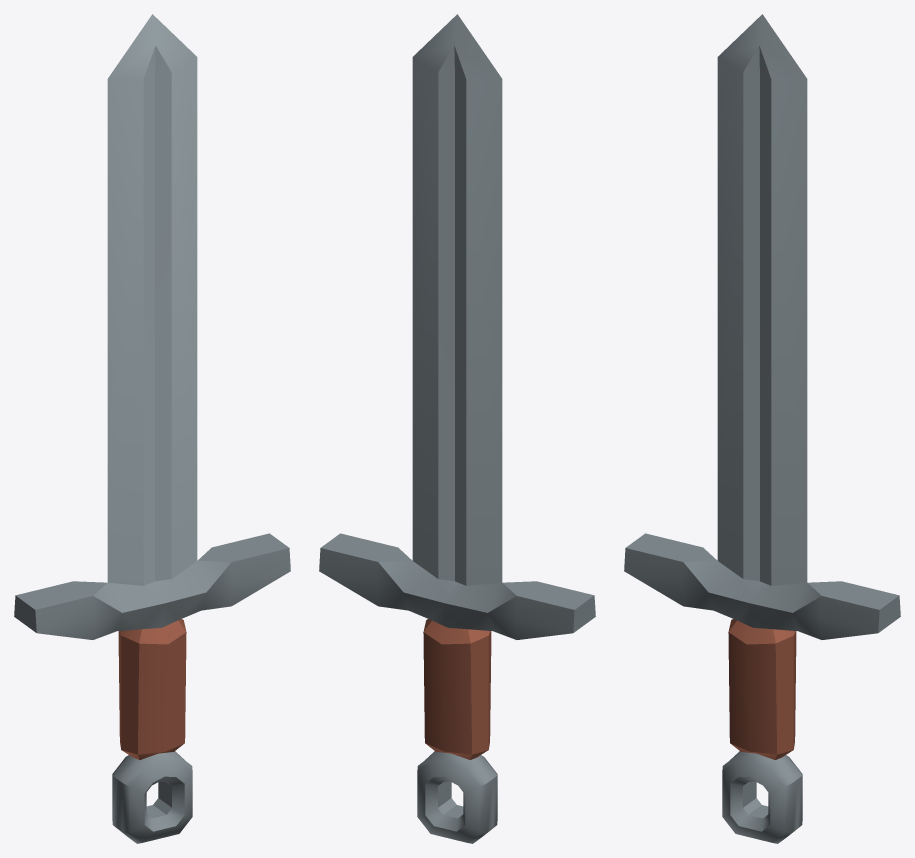
File: mercenary_sword.gltf.glb
3 views of the same model, side by side, from view 1: azimuth 30°, elevation 25°; view 2: azimuth 150°, elevation 25°; view 3: azimuth 330°, elevation 25° (orthographic).
Parts seen in each view (by area): view 1: mercenary_sword; view 2: mercenary_sword; view 3: mercenary_sword.
Boxes of the visible parts, x1,y1,x2,y2 form: mercenary_sword: [14, 14, 290, 843]; mercenary_sword: [319, 14, 595, 843]; mercenary_sword: [624, 14, 900, 843].
Size of the model in its own units: 0.3723 by 1.15 by 0.0798.
